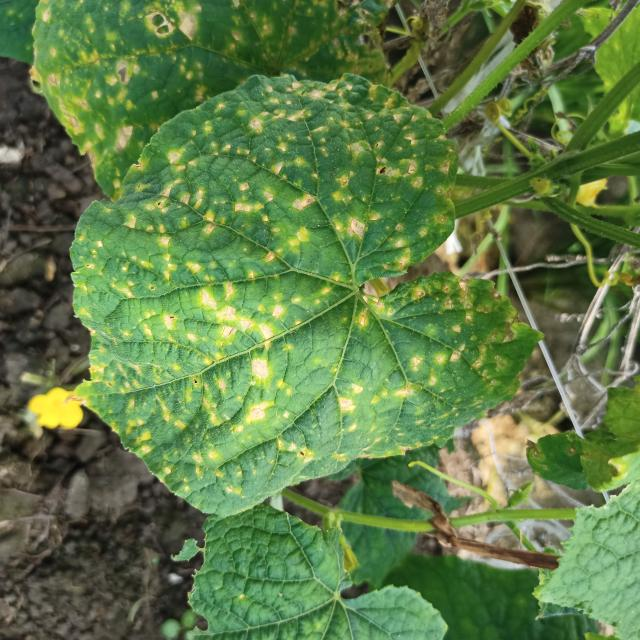disease_cucumber: (71, 74, 522, 502), (32, 0, 397, 183)
